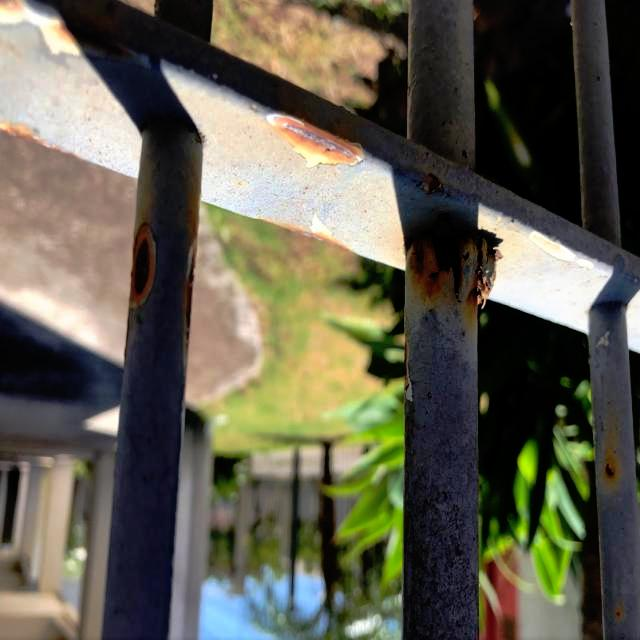Corrosion: (407, 219, 498, 327), (263, 114, 367, 165), (0, 120, 84, 159), (56, 14, 129, 53), (131, 226, 154, 304), (184, 234, 198, 337), (420, 170, 446, 199), (604, 457, 616, 479)
